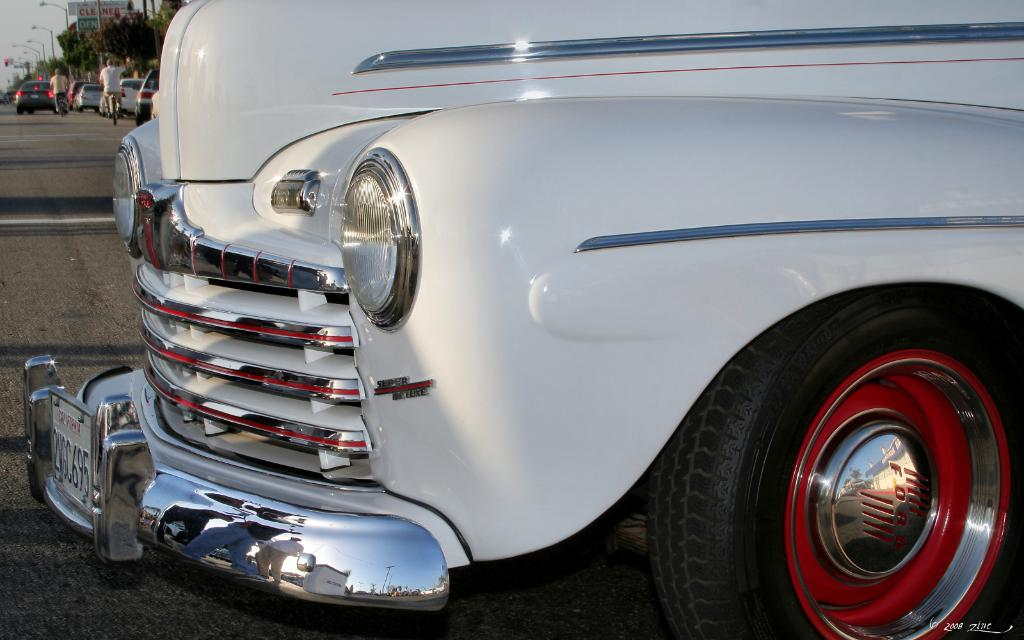Car: (64, 17, 1024, 640), (95, 72, 145, 113), (16, 76, 56, 110), (135, 67, 158, 124), (74, 83, 101, 110), (69, 74, 88, 111)
